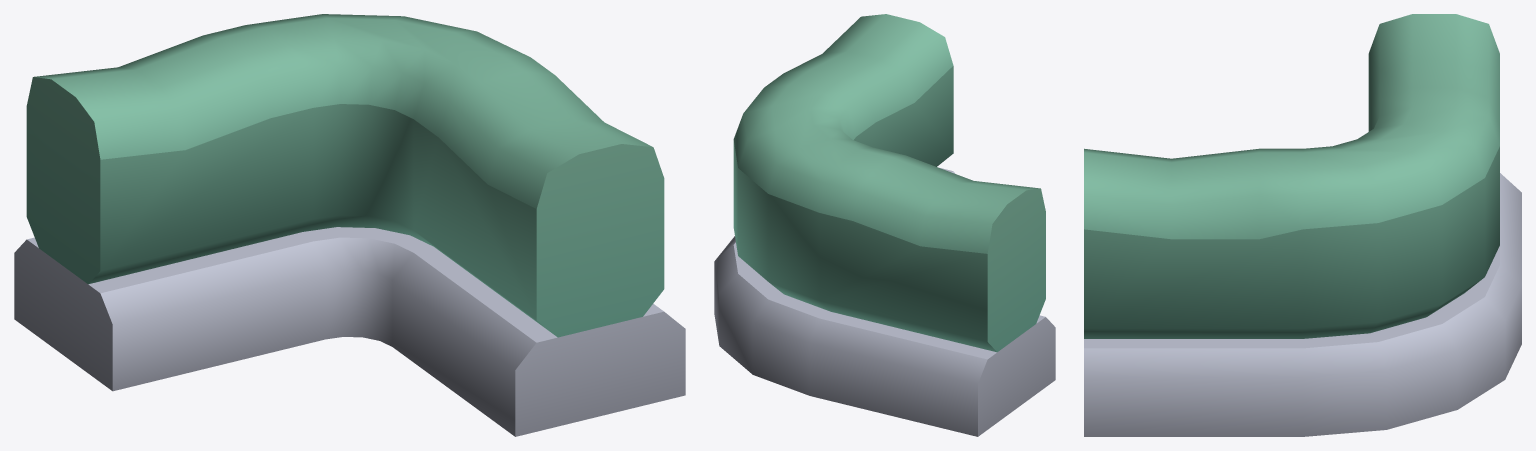
File: hedge-large-curved.glb
3 views of the same model, side by side, from view 1: azimuth 30°, elevation 25°; view 2: azimuth 150°, elevation 25°; view 3: azimuth 270°, elevation 25° (orthographic). The views are drawn at different scales.
Parts seen in each view (by area): view 1: hedge-large-curved; view 2: hedge-large-curved; view 3: hedge-large-curved.
Part boxes in pixels (box(x1,y1,x2,y2)): hedge-large-curved: box(14, 14, 685, 436); hedge-large-curved: box(714, 14, 1055, 436); hedge-large-curved: box(1084, 14, 1521, 436).
Bounding box in the file's own units: 1 × 0.6 × 1.
